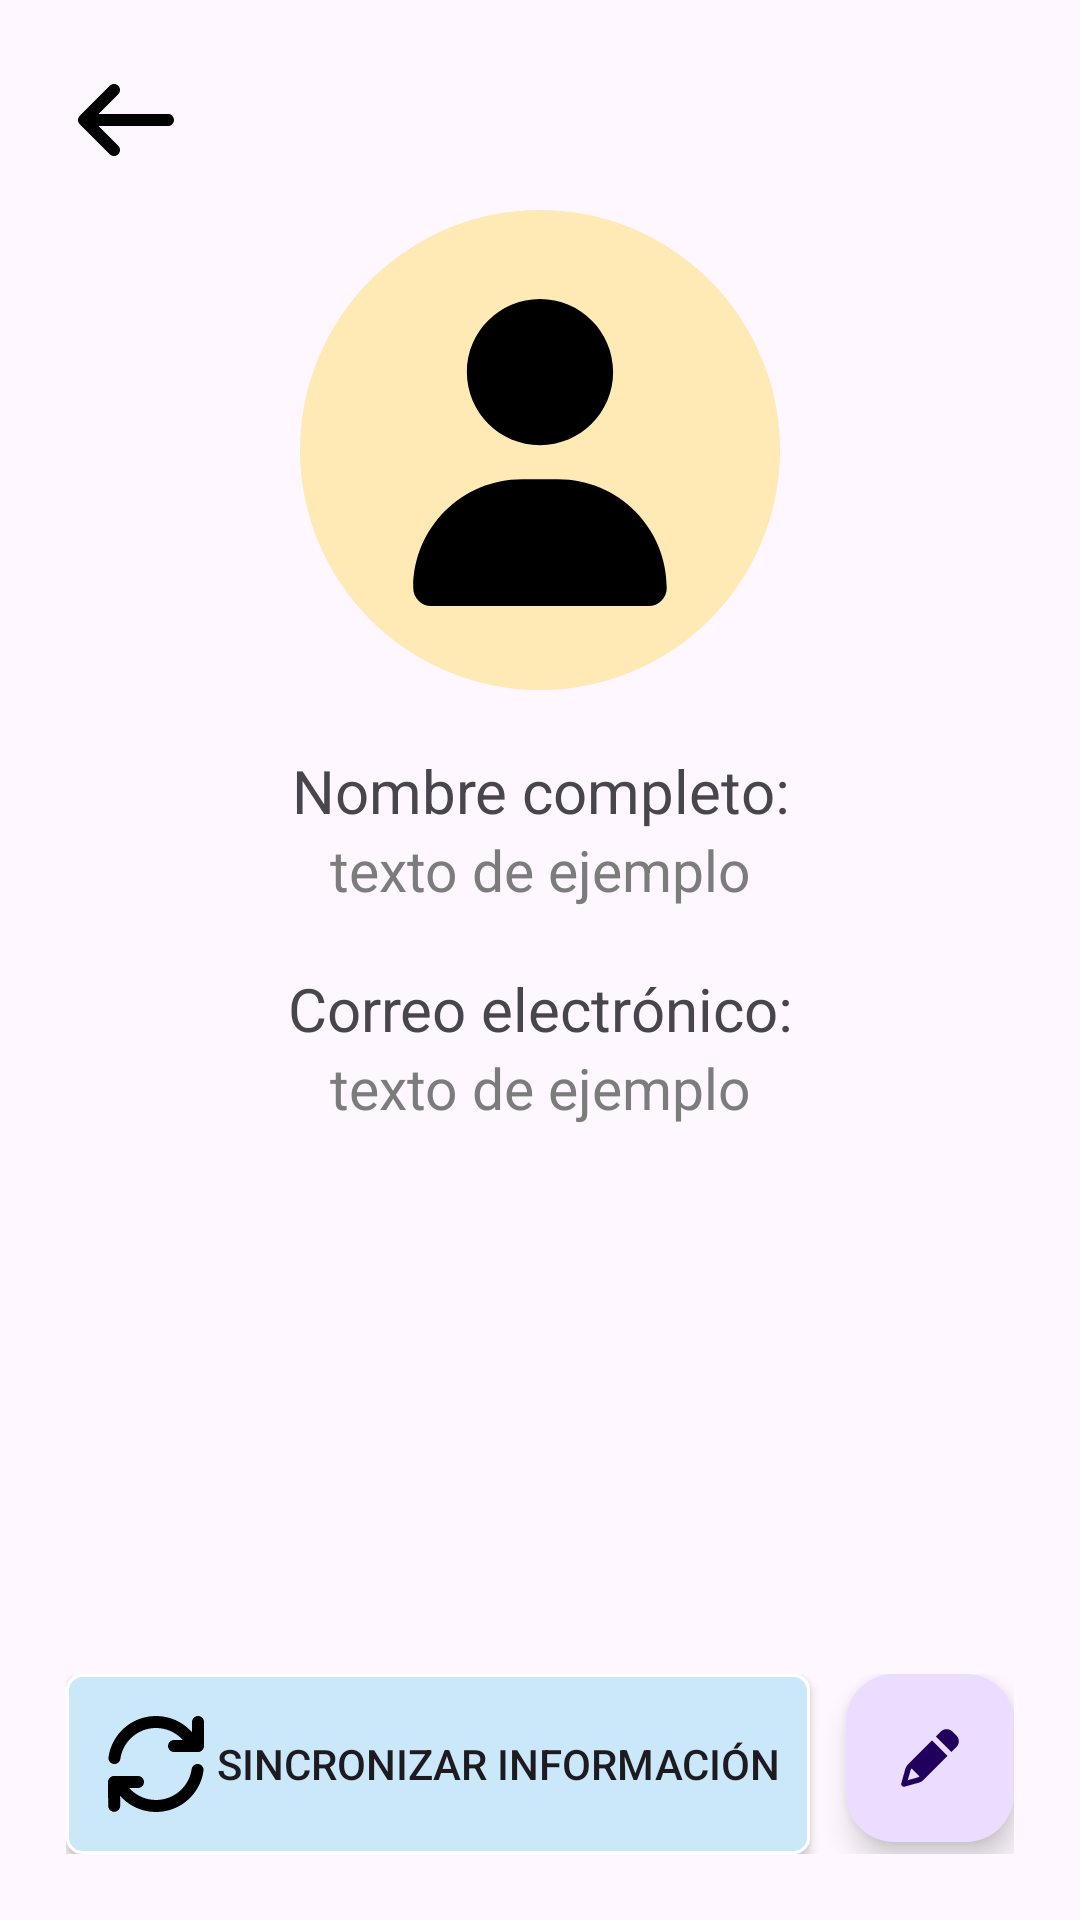

Icon click points for this 1080px x 1920px phone screenshot, format point (x, y):
arrow left full: point (126, 120)
pencil full: point (930, 1758)
